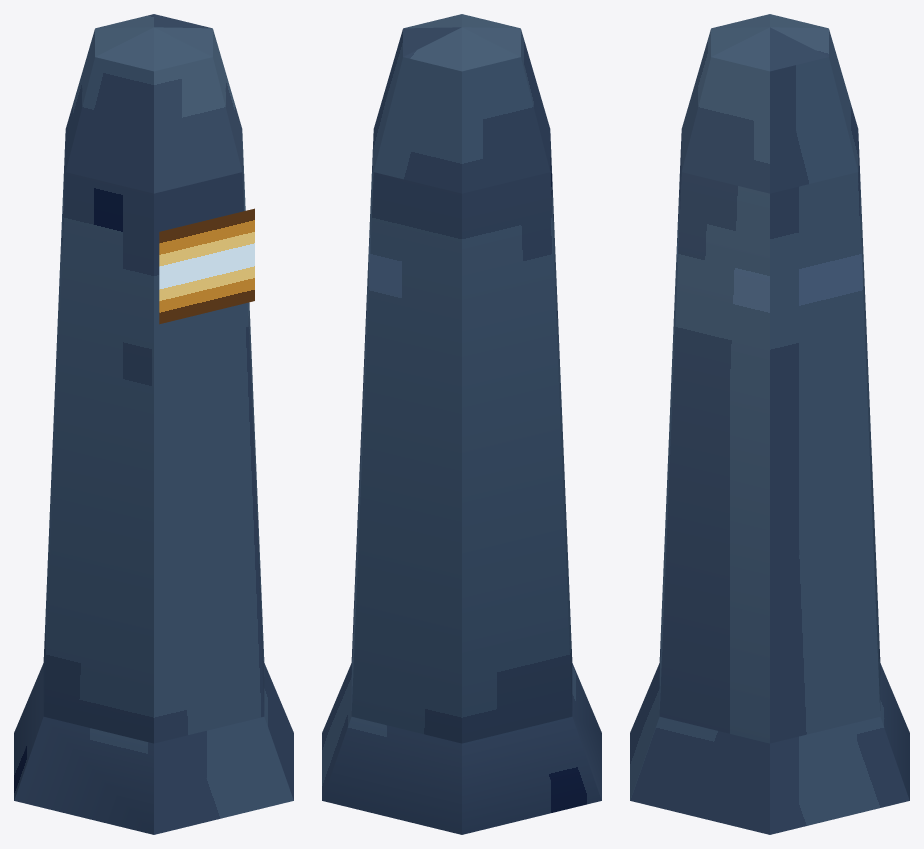
File: cydress.bollard.glb
3 views of the same model, side by side, from view 1: azimuth 30°, elevation 25°; view 2: azimuth 150°, elevation 25°; view 3: azimuth 270°, elevation 25° (orthographic).
Parts seen in each view (by area): view 1: kit_body, kit_card_details; view 2: kit_body; view 3: kit_body.
Boxes of the visible parts, box(x1,y1,x2,y2) form: kit_body: box(14, 14, 293, 834); kit_card_details: box(159, 208, 254, 324); kit_body: box(322, 14, 601, 834); kit_body: box(630, 14, 909, 834).
Size of the model in its own units: 0.38 by 0.96 by 0.3291.
Materials: 2 (2 with a texture image).
